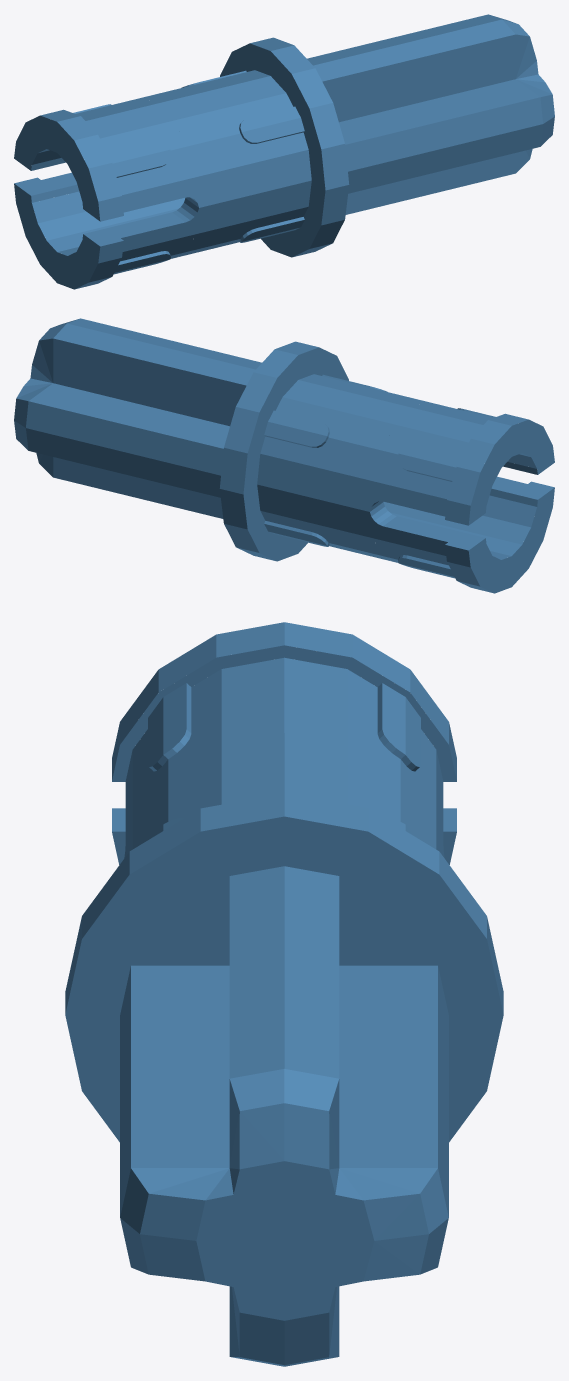
3 views of the same model, one above another, from view 1: azimuth 30°, elevation 25°; view 2: azimuth 150°, elevation 25°; view 3: azimuth 270°, elevation 25° (orthographic). The views are drawn at different scales.
Parts seen in each view (by area): view 1: world; view 2: world; view 3: world.
Boxes of the visible parts, x1,y1,x2,y2 form: world: (14, 14, 554, 289); world: (14, 318, 554, 593); world: (65, 622, 503, 1366).
Bounding box in the file's own units: 0.0158 × 0.0064 × 0.0064.
